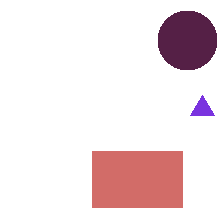circle: (158, 11, 216, 69)
rectangle: (92, 151, 182, 207)
triangle: (190, 95, 214, 115)
